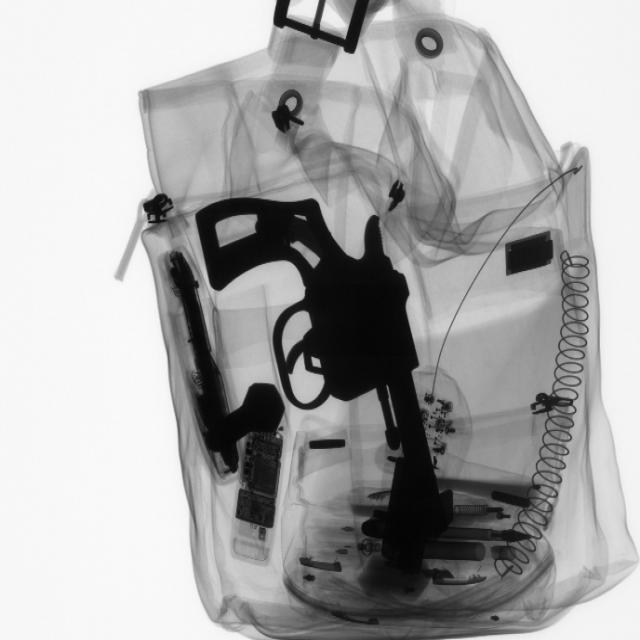GUN: (190, 194, 437, 505)
